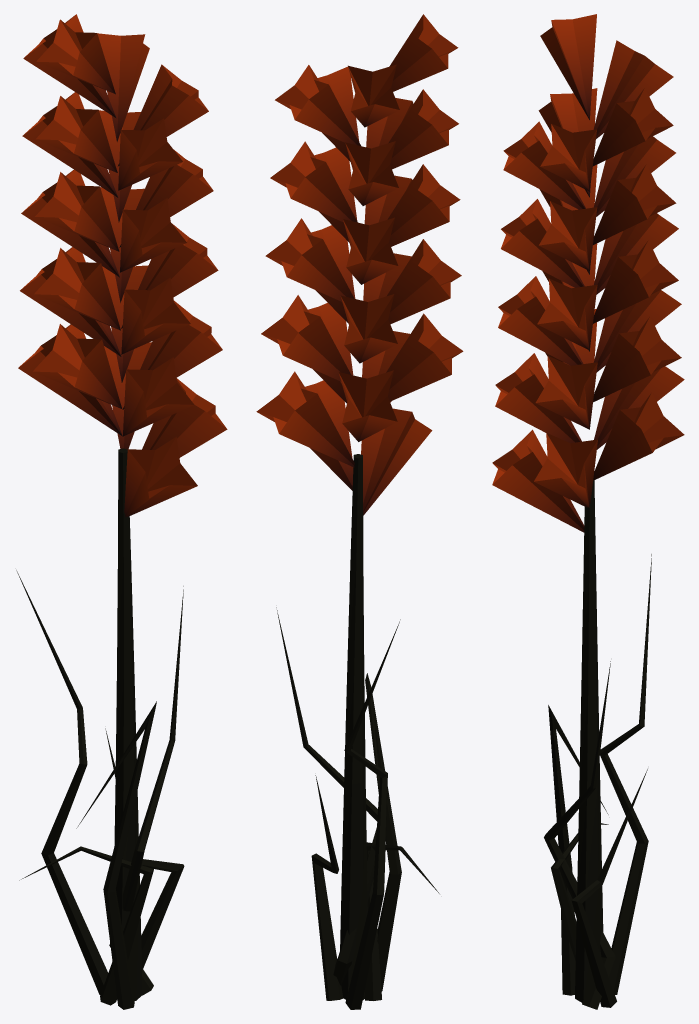
File: Plant-S-7.fbx
3 renders of one model, left to right at view 1: azimuth 30°, elevation 25°; view 2: azimuth 150°, elevation 25°; view 3: azimuth 270°, elevation 25°, orthographic. The views are drawn at different scales.
Parts seen in each view (by area): view 1: OUT-Plant; view 2: OUT-Plant; view 3: OUT-Plant.
Part boxes in pixels (bbox=[...]): OUT-Plant: bbox=[16, 14, 227, 1009]; OUT-Plant: bbox=[256, 14, 463, 1009]; OUT-Plant: bbox=[492, 14, 684, 1009].
Bounding box in the file's own units: 0.0636 × 0.326 × 0.0594.
